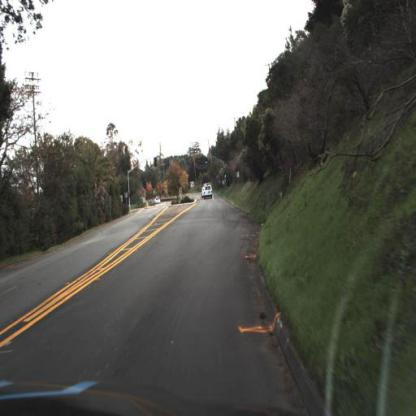car: (200, 184, 216, 202), (152, 194, 161, 206), (154, 193, 162, 205)
trafficLight-Green: (205, 155, 210, 167), (225, 173, 229, 182)
